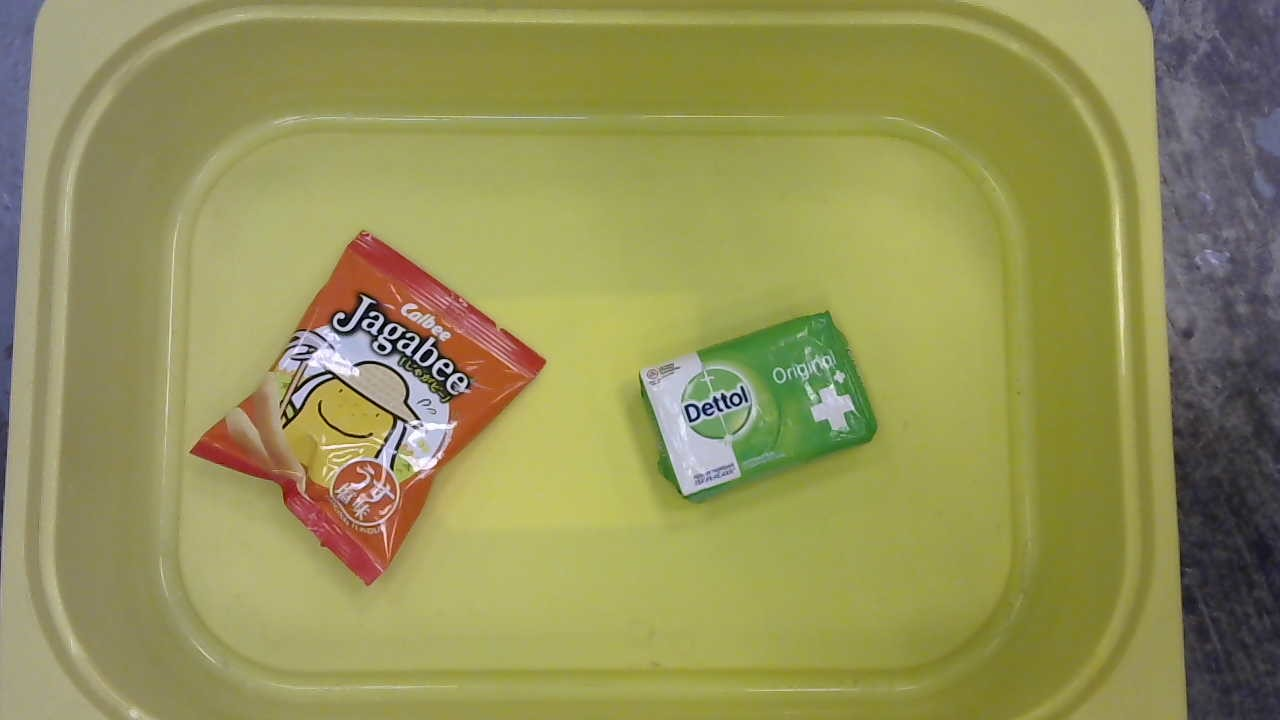Dettol: (626, 308, 888, 506)
JagabeeFarmer: (178, 225, 551, 597)
